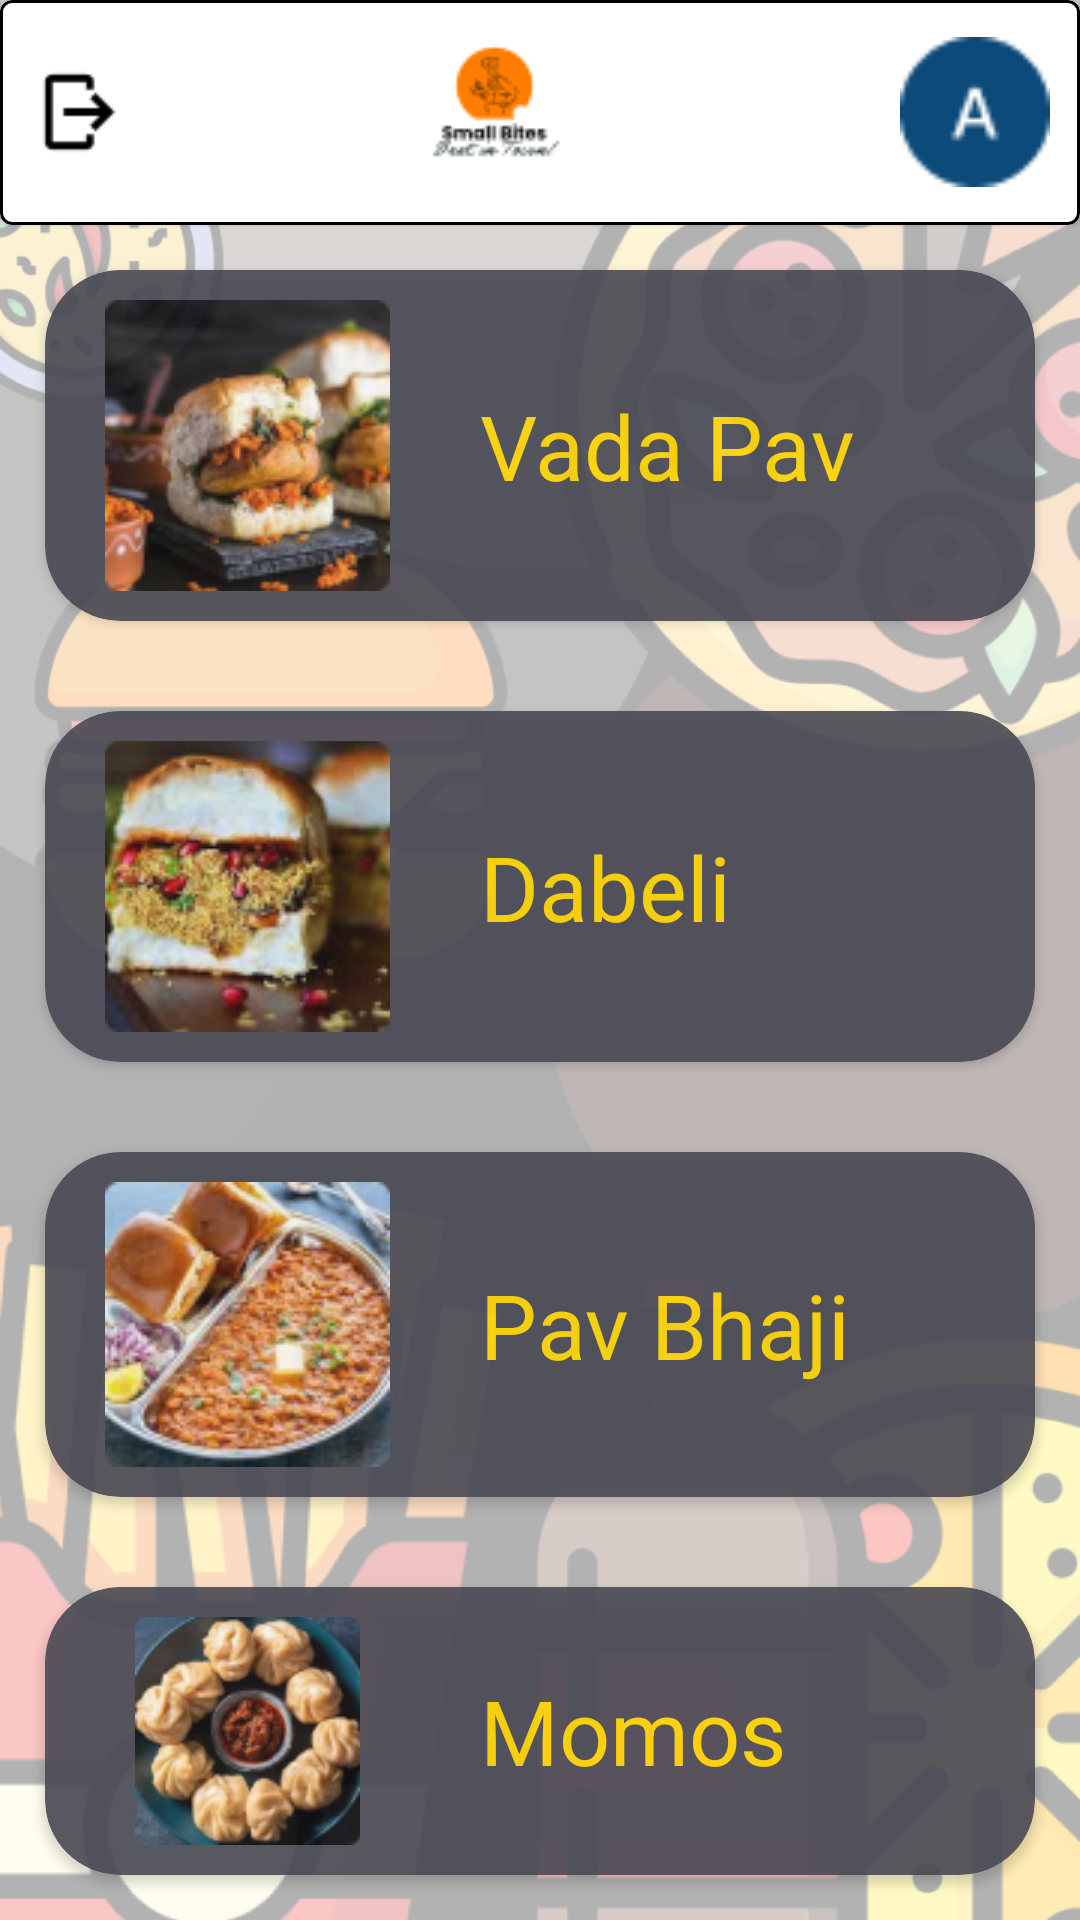

Where to tap for icons on this 1080×1920 app screen, as (x,y):
user: (975,112)
